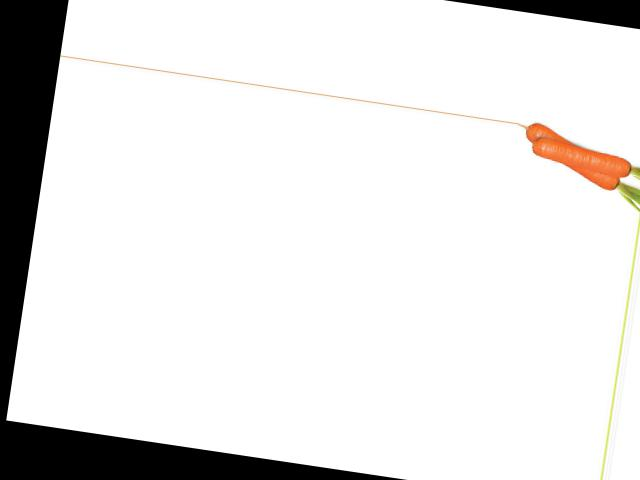carrot: (511, 122, 634, 193)
